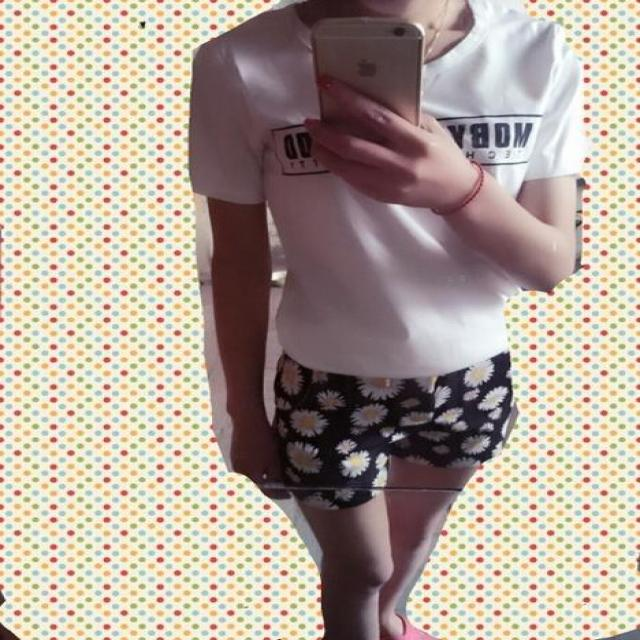short sleeve top: (189, 2, 585, 378)
shorts: (275, 342, 511, 495)
